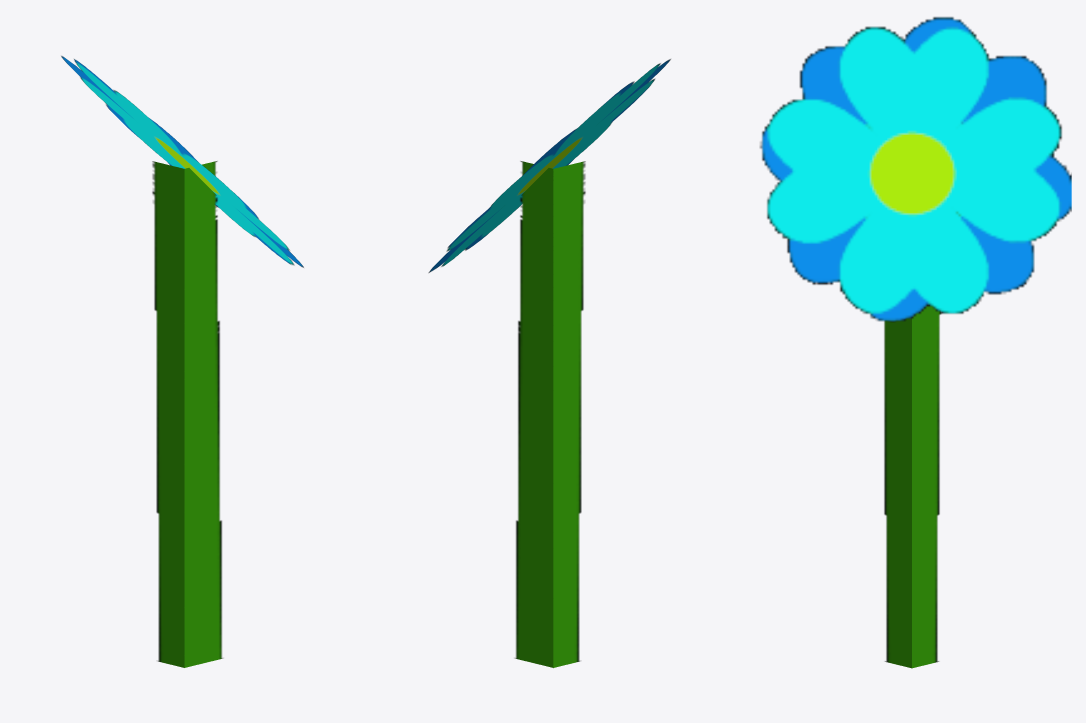
Rendered from Flower3.glb.
3 renders of one model, left to right at view 1: azimuth 30°, elevation 25°; view 2: azimuth 150°, elevation 25°; view 3: azimuth 270°, elevation 25°, orthographic.
Visible parts, largest first — view 1: Flower3; view 2: Flower3; view 3: Flower3.
Boxes of the visible parts, x1,y1,x2,y2 form: Flower3: [61, 56, 303, 667]; Flower3: [428, 59, 670, 667]; Flower3: [760, 17, 1071, 668].
Size of the model in its own units: 0.4631 by 1.52 by 0.7205.
Materials: 1 (1 with a texture image).
